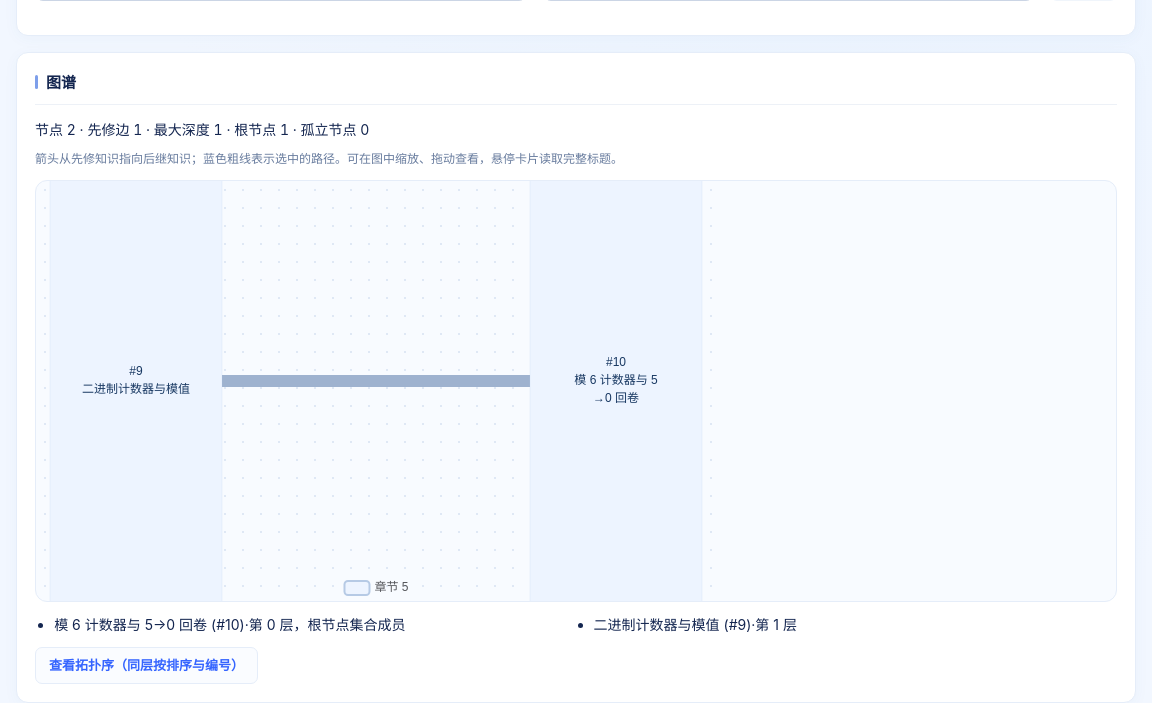
it: 知识图谱页面 › 无环时显示唯一的拓扑序
The image size is (1152, 703).
(page scrolled)
Click the button with class "topology-button".
click(146, 666)  # box [35, 648, 258, 684]
(page scrolled)
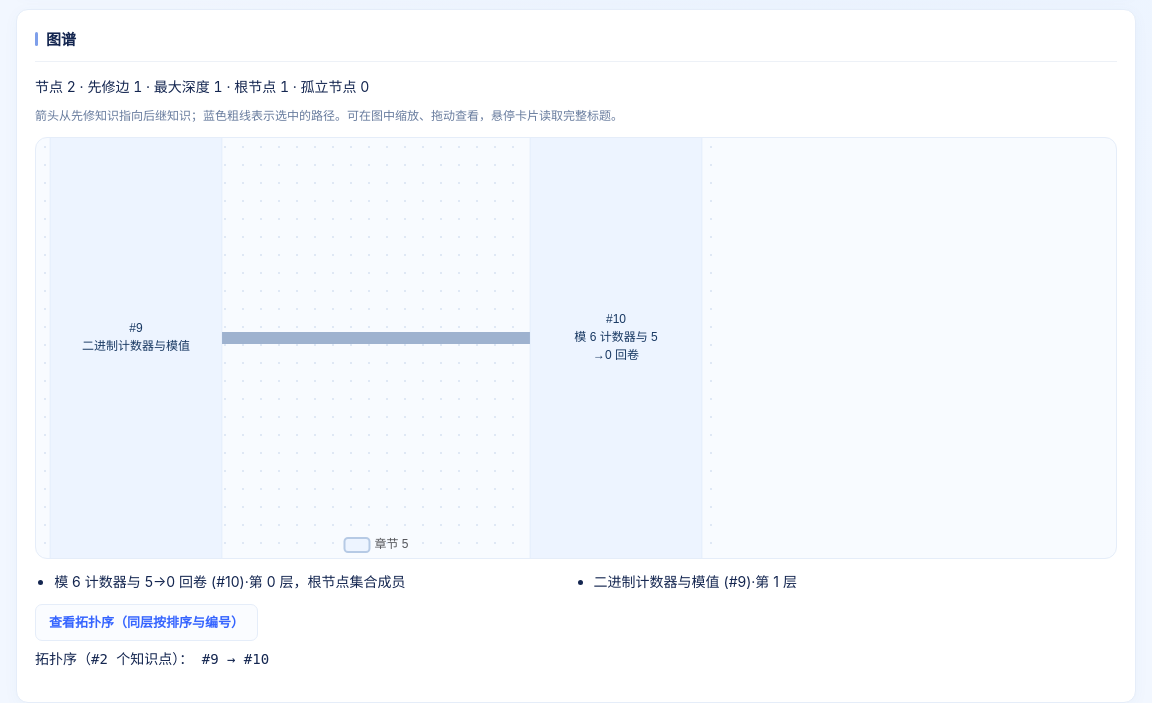
Now the text with class "topology__order" shows "#9 → #10", box [35, 651, 269, 667]
